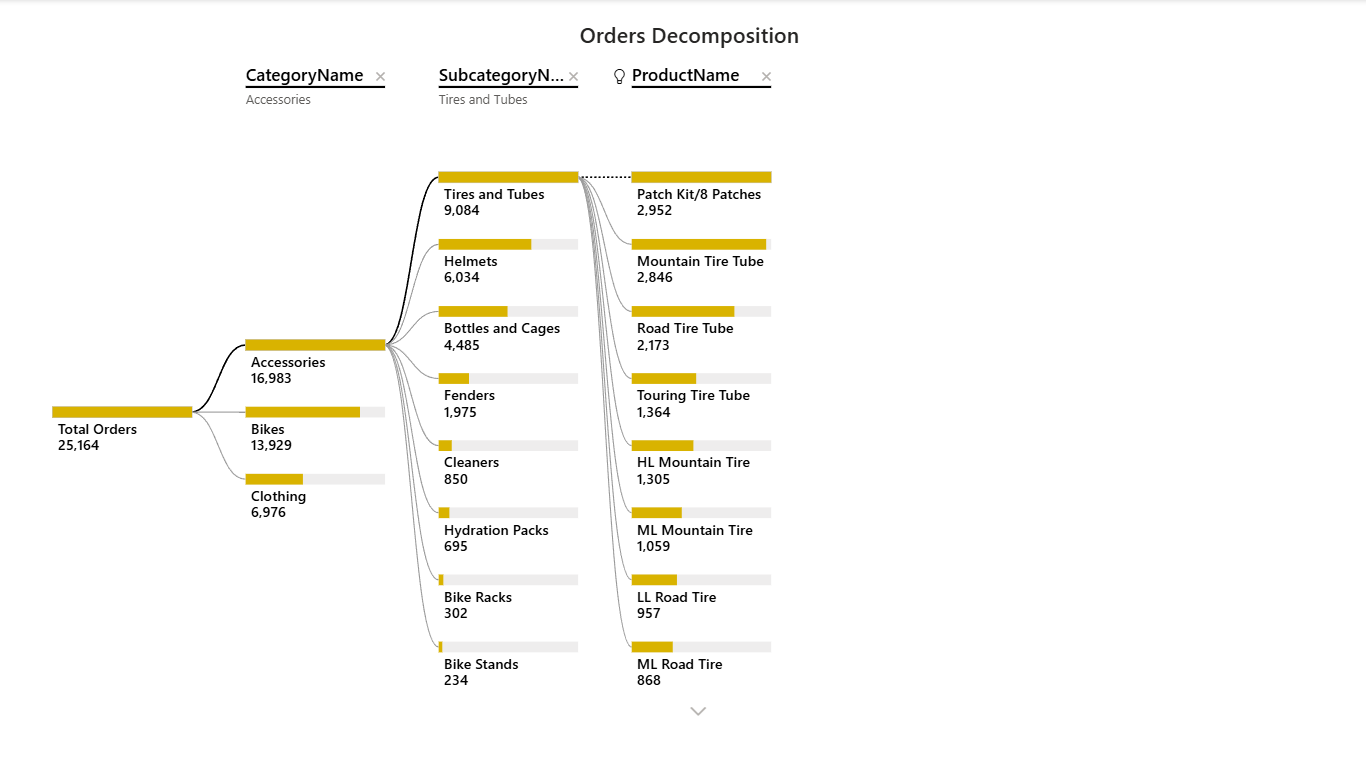

What the dashboard file says about the page in this screenshot:
{"tool":"powerbi","page":{"name":"Decomposition Tree","canvas":[1280,720],"ordinal":3},"visuals":[{"type":"decompositionTreeVisual","title":"Orders Decomposition ","fields":{"ExplainBy":["Product Categories Lookup.CategoryName","Product Subcategories Lookup.SubcategoryName","Product Lookup.ProductName"],"Analyze":["Measure Table.Total Orders"]},"box":[20.5,19,1247.9,685.4],"z":0}]}

Visuals, with their boxes in screenshot pixels (x1, y1, x2, y2), scaled from the page's 1280x720 canvas onto the 1366x768 screenshot:
"Orders Decomposition " decompositionTreeVisual: (left=22, top=20, right=1354, bottom=751)
